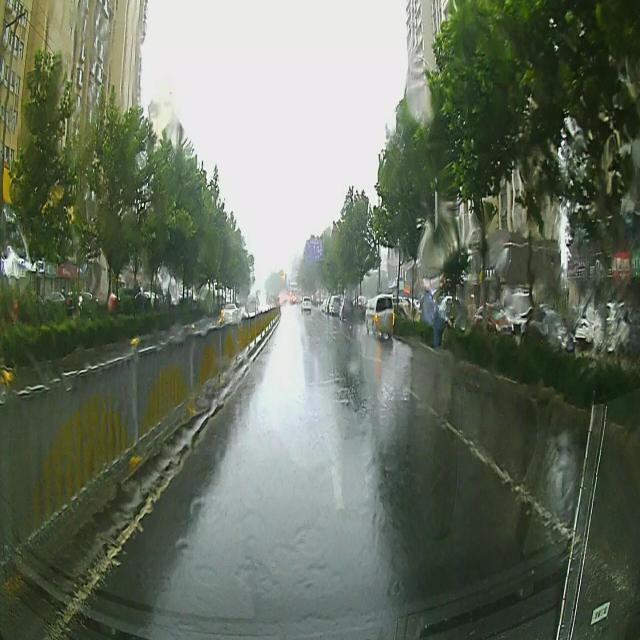car: (364, 292, 396, 338), (218, 300, 246, 332), (327, 293, 344, 313), (340, 302, 354, 318), (300, 296, 312, 312)
